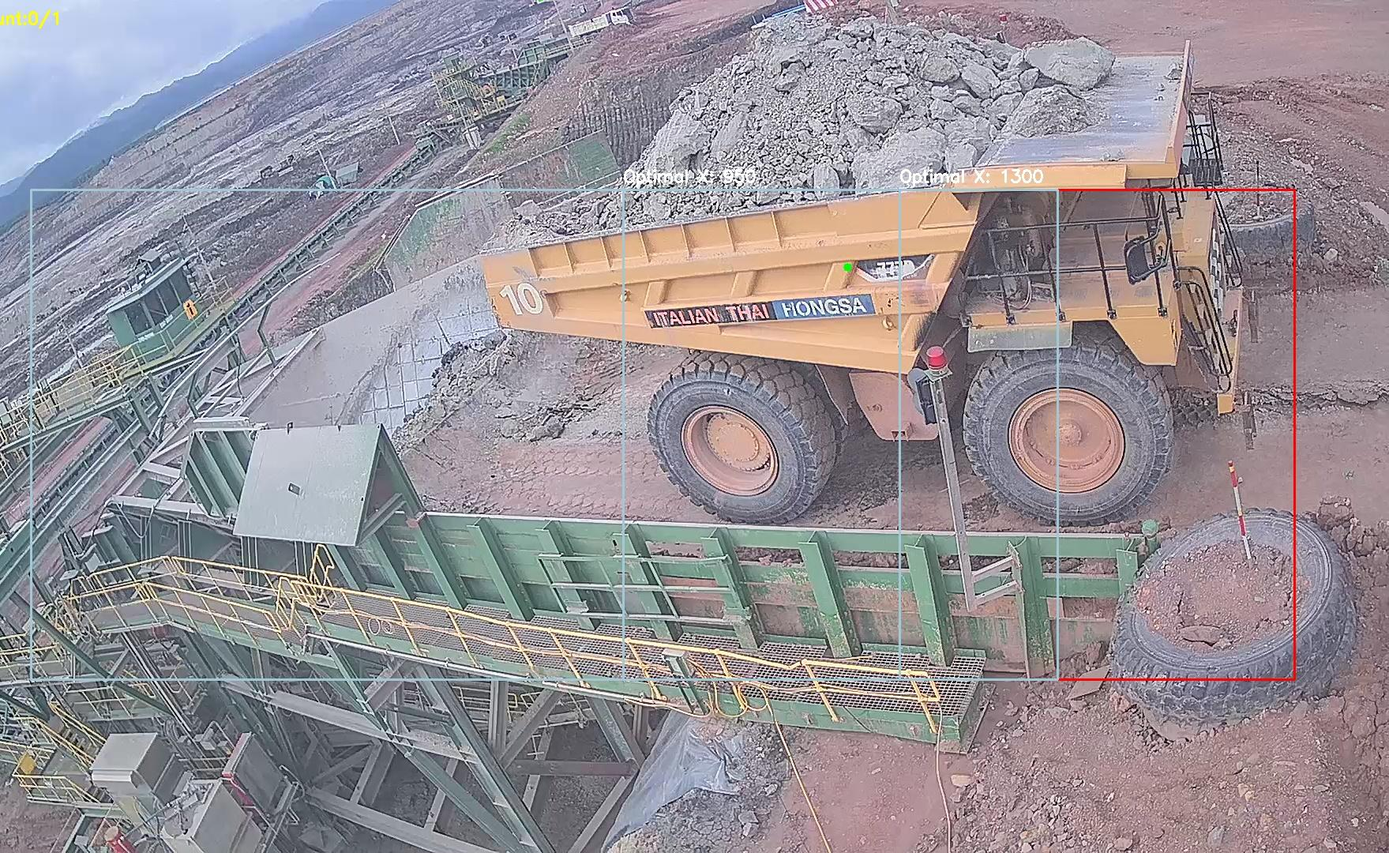company: (636, 281, 883, 334)
full_load: (660, 16, 999, 213)
mining_truck: (469, 1, 1284, 530)
tail_number: (492, 276, 555, 329)
truck_size: (854, 246, 932, 284)
